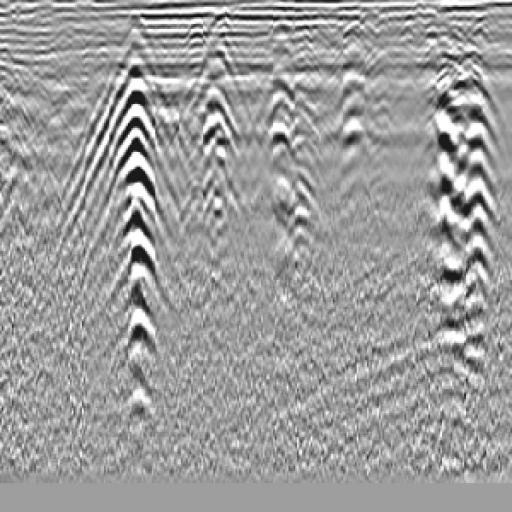metalic: (318, 45, 380, 217)
